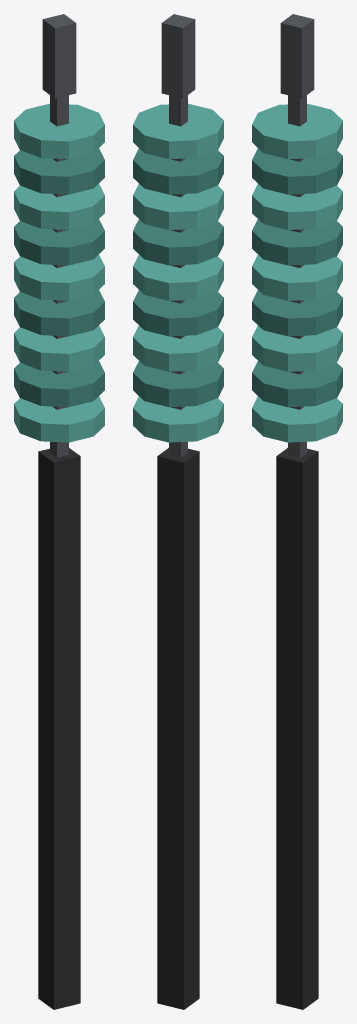
The model's file is pyl-139.obj.
The picture shows the model from 3 angles, left to right: view 1: azimuth 30°, elevation 25°; view 2: azimuth 150°, elevation 25°; view 3: azimuth 330°, elevation 25°; orthographic projection.
Bounding box in the file's own units: 0.13 × 1.54 × 0.1236.
Materials: 1 (1 with a texture image).
